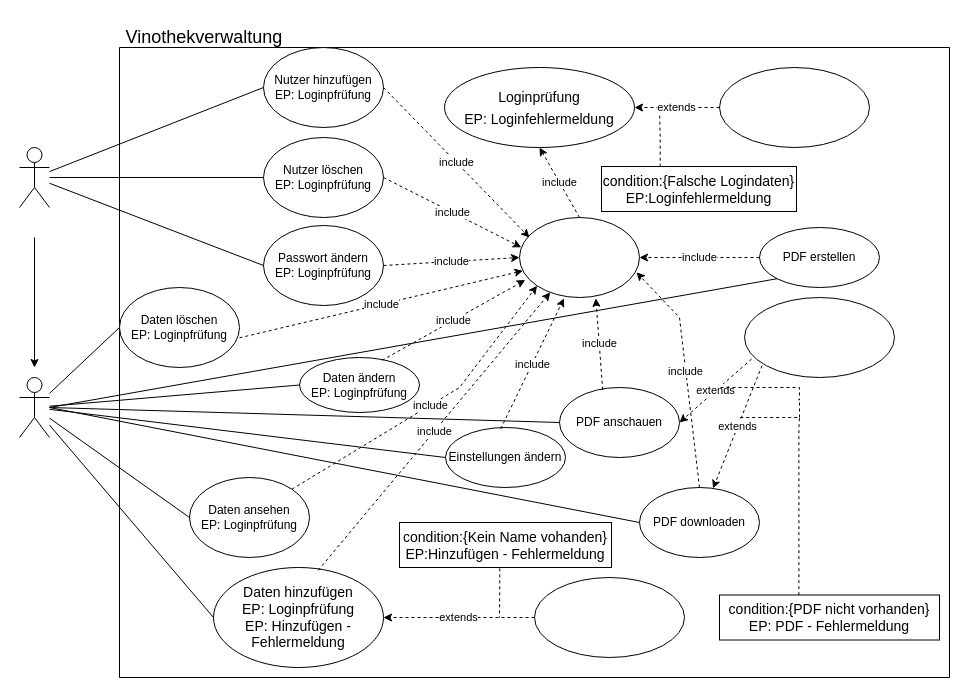
Some shapes in this 967 by 695 pixel diagram are drawn without their labels. Each missing label, with the centre of its shape:
Admin: point (34, 177)
Einloggen: point (579, 257)
Hinzufügen - Fehlermeldung: point (609, 617)
Loginfehlermeldung: point (794, 107)
Nutzer: point (34, 407)
PDF - Fehlermeldung: point (819, 337)
